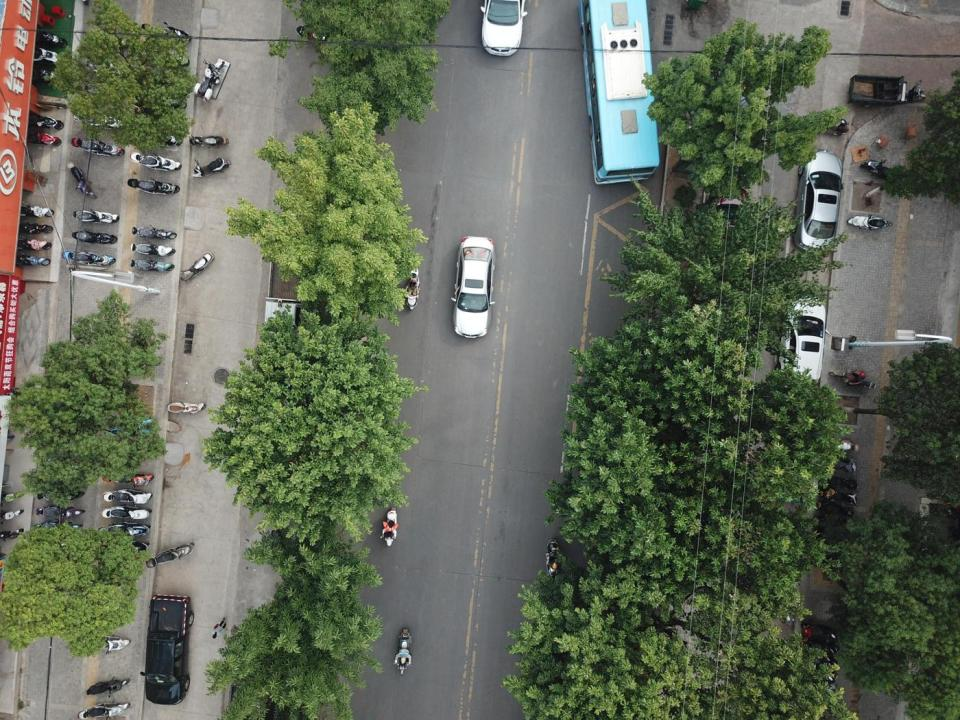bus: (580, 0, 661, 188)
car: (795, 149, 840, 253), (778, 298, 828, 389), (454, 236, 496, 339), (481, 0, 529, 56)
truck: (147, 596, 193, 704)
